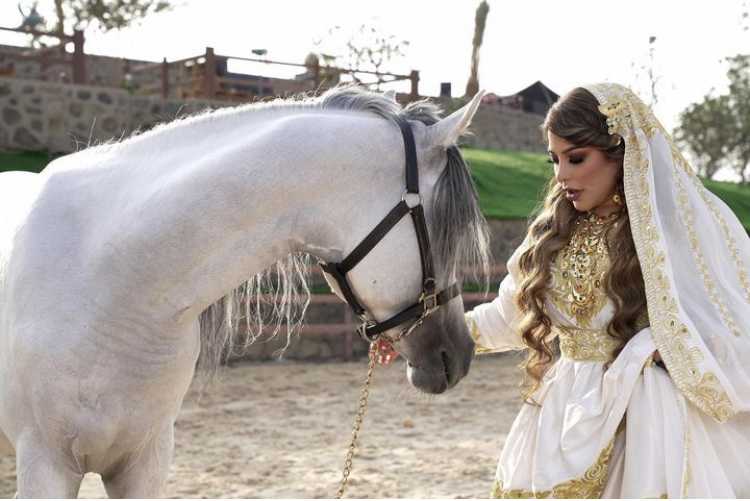Saudi_Founding_Day: (366, 79, 750, 500)
